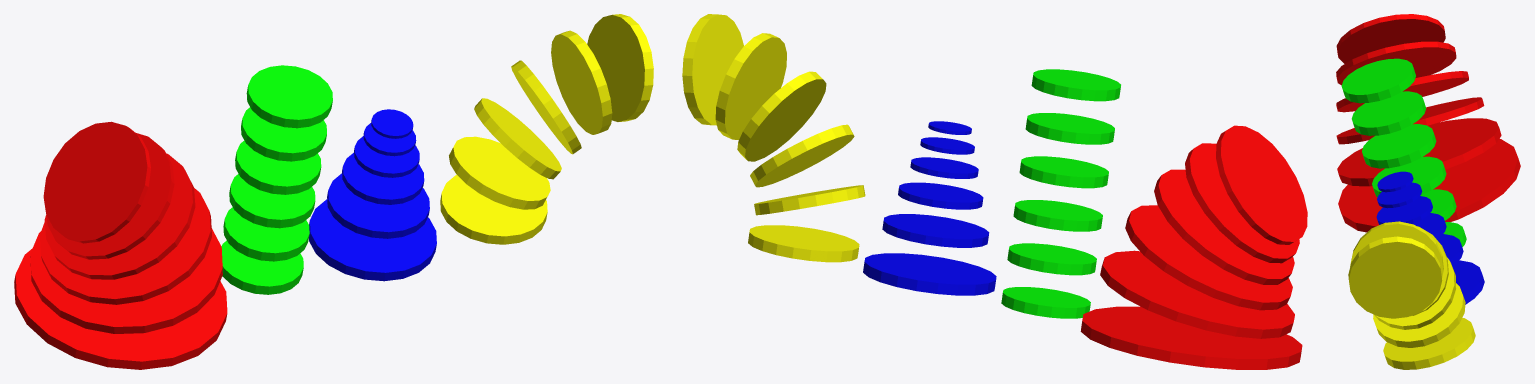
Rendered from transform_hierarchy.dae.
The picture shows the model from 3 angles, left to right: view 1: azimuth 30°, elevation 25°; view 2: azimuth 150°, elevation 25°; view 3: azimuth 270°, elevation 25°; orthographic projection. The views are drawn at different scales.
Parts seen in each view (by area): view 1: pCylinder6, pCylinder1, pCylinder2, pCylinder3, pCylinder13, pCylinder24, pCylinder4, pCylinder20, pCylinder12, pCylinder19, pCylinder23, pCylinder5 (+12 smaller); view 2: pCylinder1, pCylinder2, pCylinder6, pCylinder3, pCylinder4, pCylinder23, pCylinder24, pCylinder5, pCylinder13, pCylinder22, pCylinder19, pCylinder14 (+11 smaller); view 3: pCylinder24, pCylinder1, pCylinder2, pCylinder6, pCylinder12, pCylinder5, pCylinder10, pCylinder11, pCylinder19, pCylinder20, pCylinder3, pCylinder23 (+12 smaller).
Boxes of the visible parts, x1,y1,x2,y2 form: pCylinder6: [43, 121, 150, 243]; pCylinder1: [14, 248, 227, 369]; pCylinder2: [30, 228, 222, 333]; pCylinder3: [40, 188, 211, 304]; pCylinder13: [309, 199, 436, 281]; pCylinder24: [587, 14, 653, 121]; pCylinder4: [44, 153, 195, 279]; pCylinder20: [449, 136, 550, 209]; pCylinder12: [246, 65, 332, 128]; pCylinder19: [440, 175, 547, 244]; pCylinder23: [551, 30, 612, 134]; pCylinder5: [46, 133, 174, 259]; pCylinder1: [1080, 306, 1302, 369]; pCylinder2: [1100, 250, 1294, 338]; pCylinder6: [1216, 125, 1307, 244]; pCylinder3: [1125, 205, 1292, 310]; pCylinder4: [1154, 169, 1294, 284]; pCylinder23: [715, 33, 786, 140]; pCylinder24: [682, 14, 743, 125]; pCylinder5: [1185, 143, 1299, 263]; pCylinder13: [863, 253, 996, 295]; pCylinder22: [737, 71, 826, 161]; pCylinder19: [748, 225, 859, 262]; pCylinder14: [882, 214, 989, 247]; pCylinder24: [1348, 236, 1442, 318]; pCylinder1: [1338, 138, 1520, 232]; pCylinder2: [1337, 118, 1501, 186]; pCylinder6: [1336, 14, 1445, 63]; pCylinder12: [1341, 58, 1415, 103]; pCylinder5: [1336, 41, 1456, 85]; pCylinder10: [1362, 124, 1436, 168]; pCylinder11: [1351, 91, 1426, 135]; pCylinder19: [1383, 318, 1475, 369]; pCylinder20: [1373, 283, 1465, 347]; pCylinder3: [1336, 97, 1484, 144]; pCylinder23: [1350, 221, 1443, 277].
Bounding box in the file's own units: 188 × 72.01 × 59.21.
